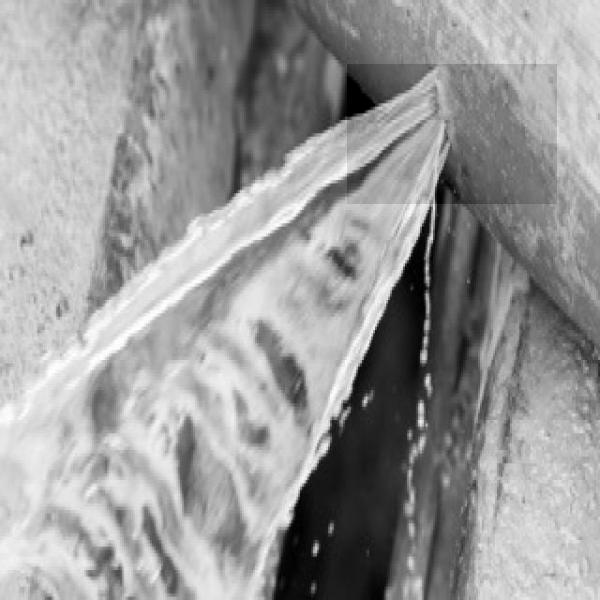water: (347, 64, 557, 204)
